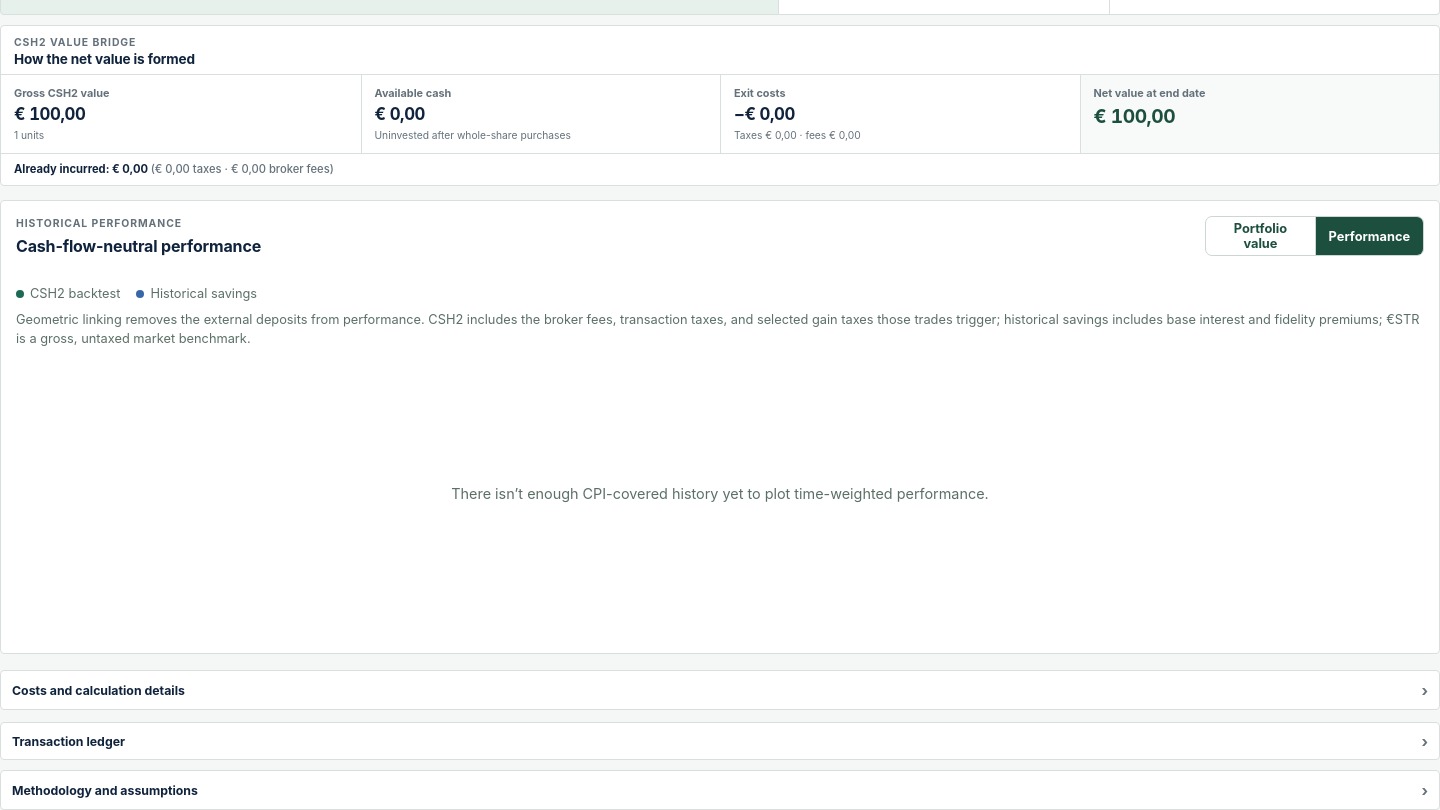
Test: historical savings result placement › labels acquired premiums that are still awaiting credit explicitly
(page scrolled)
Click the heading "Costs and calculation details": click(98, 690) [12,683,185,698]
(page scrolled)
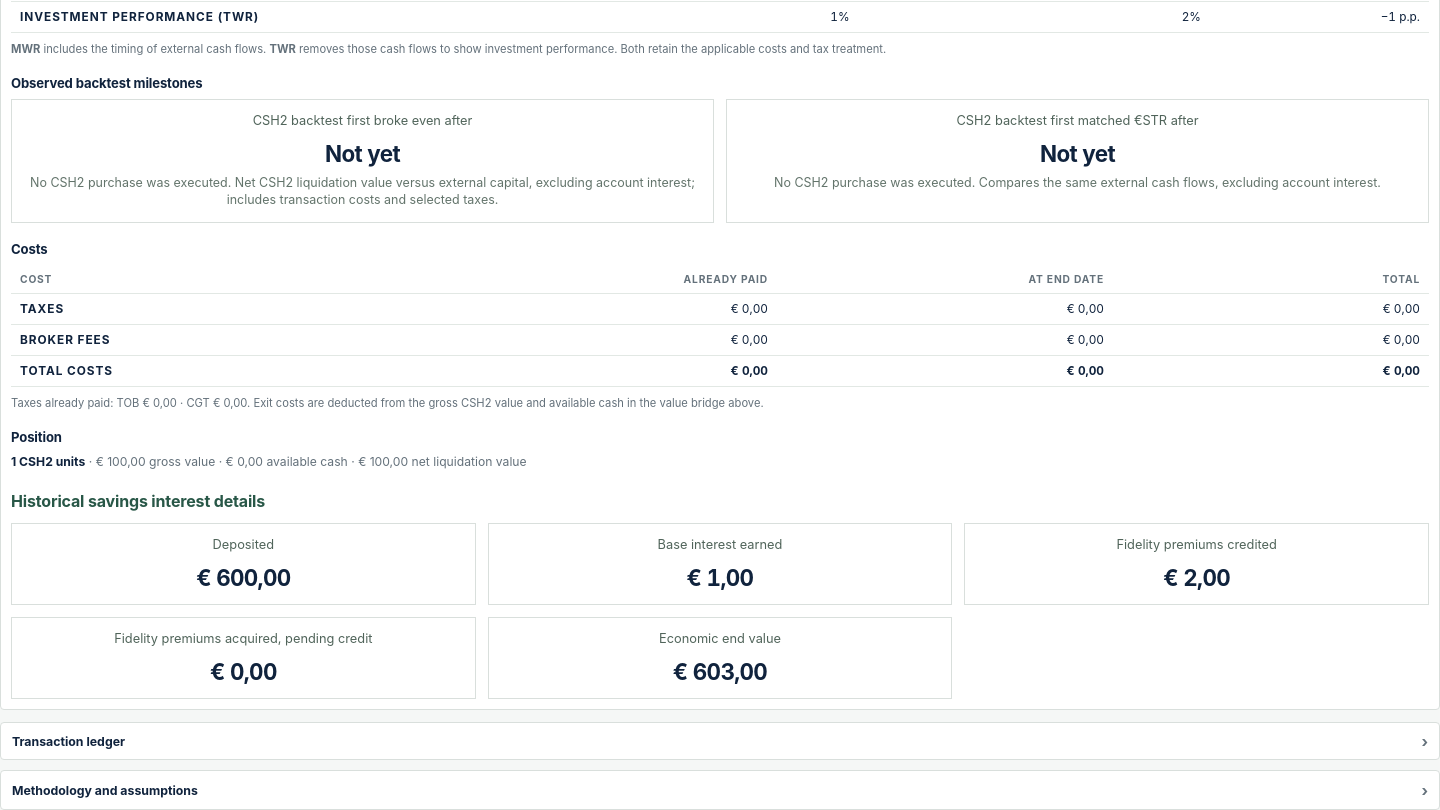
Now the text "Fidelity premiums acquired, pending credit" is shown, box [114,631,372,646]
